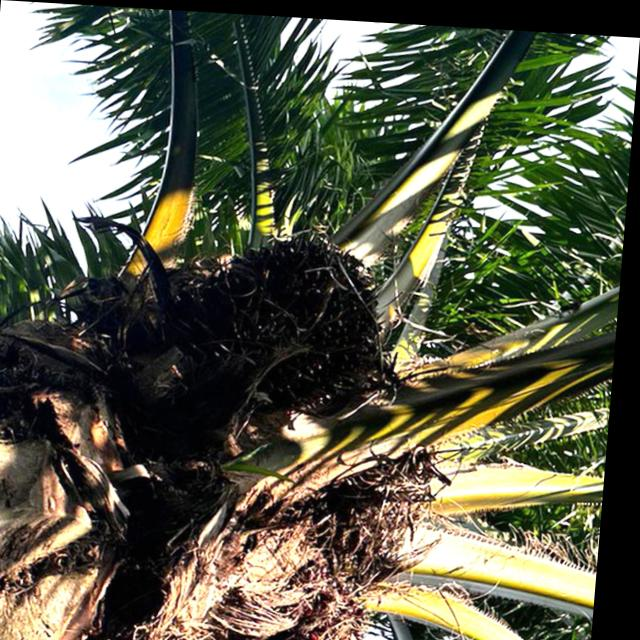ripe: (205, 229, 396, 419)
